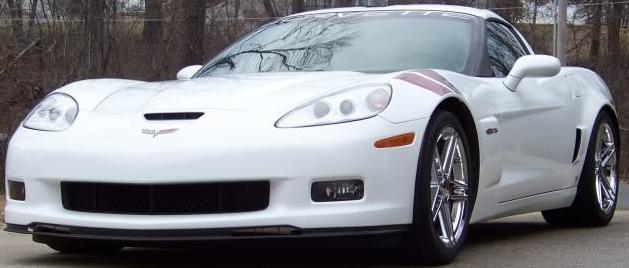front_view: (1, 75, 415, 238)
headlight: (278, 80, 393, 137)
side_glass: (484, 17, 540, 80)
